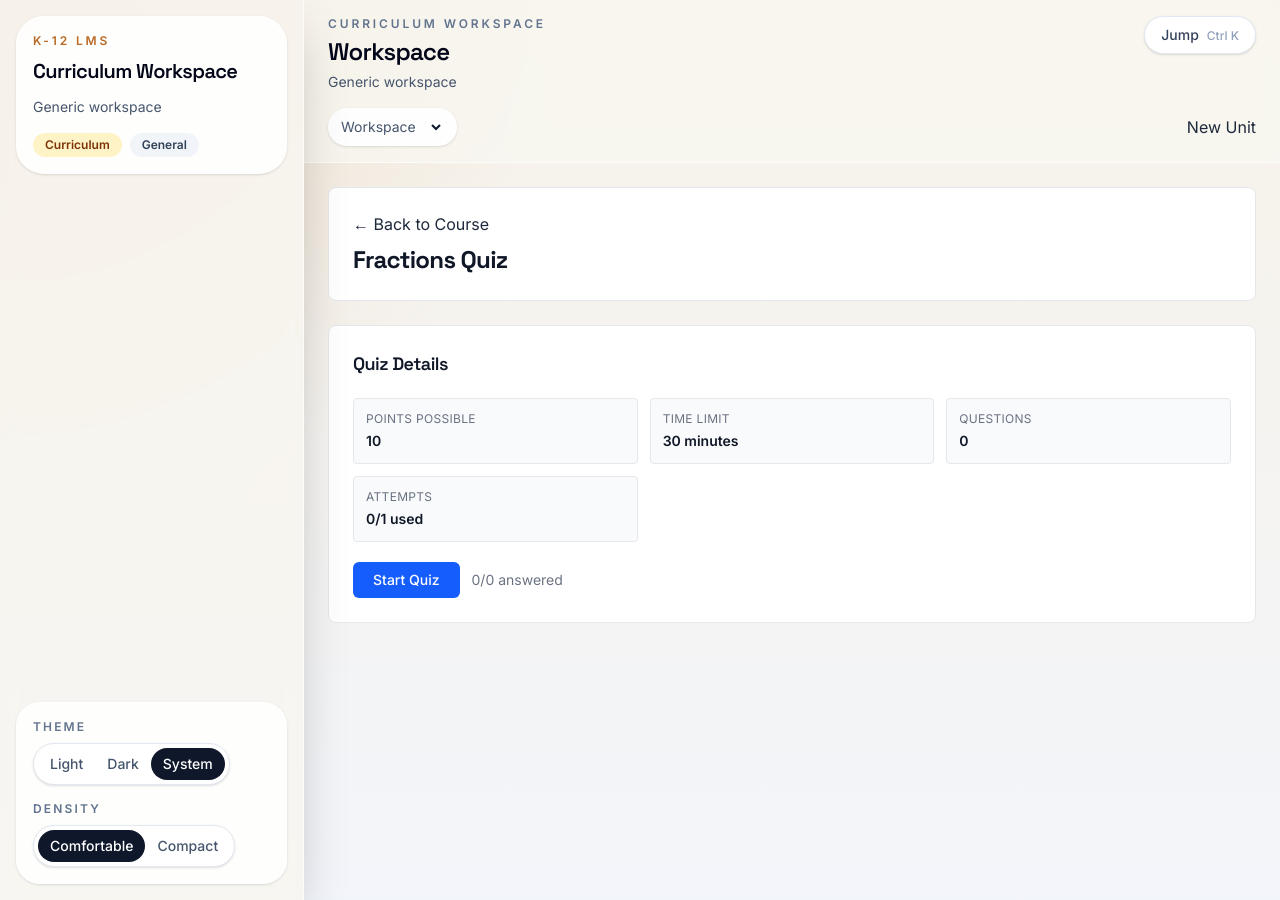
Scenario: Learn Quiz Attempt Flow › shows API error messages when attempt start is rejected
Click the button "Start Quiz": (406, 580) [353, 562, 460, 598]
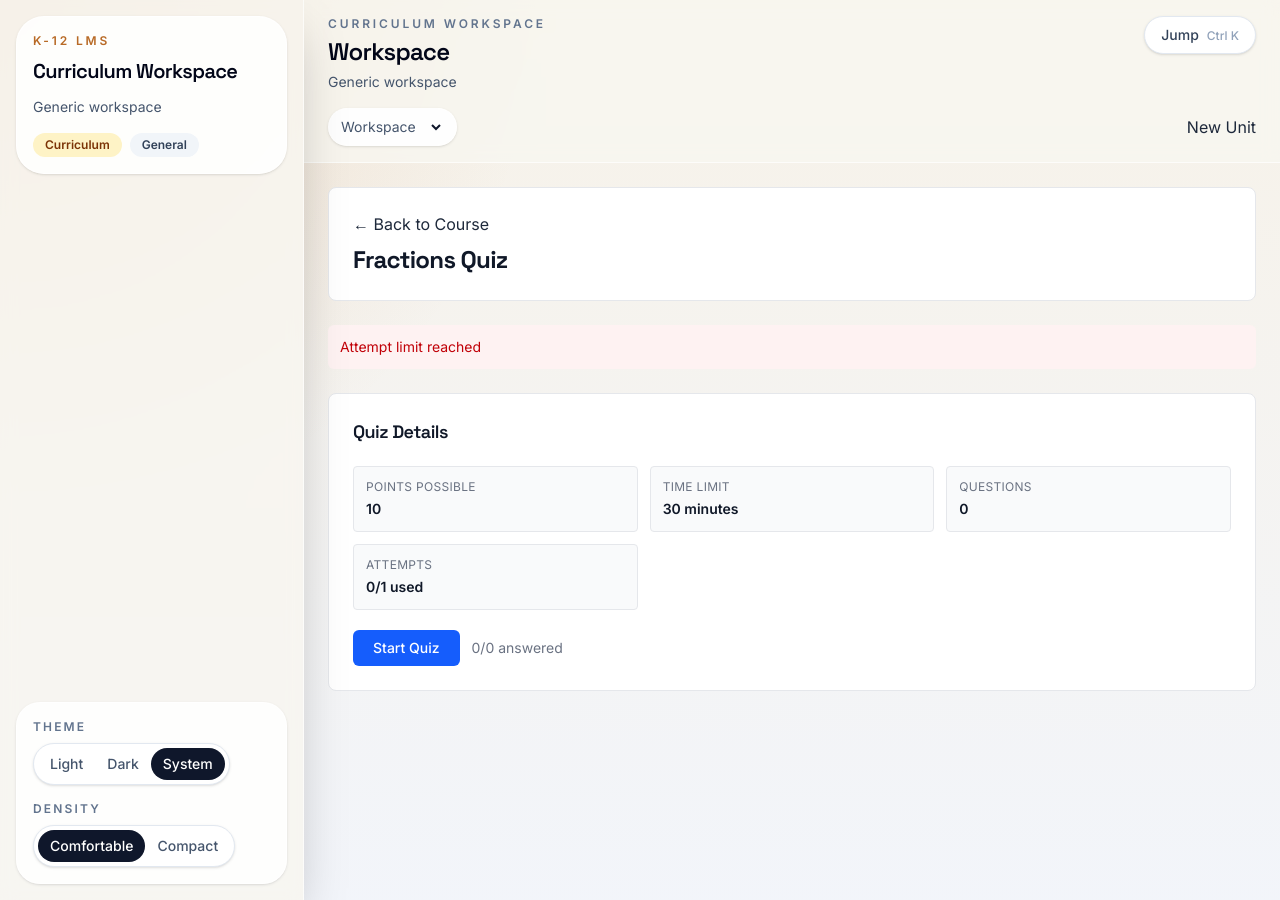
Check: the text "Attempt limit reached" is shown, box [328, 325, 1256, 369]
